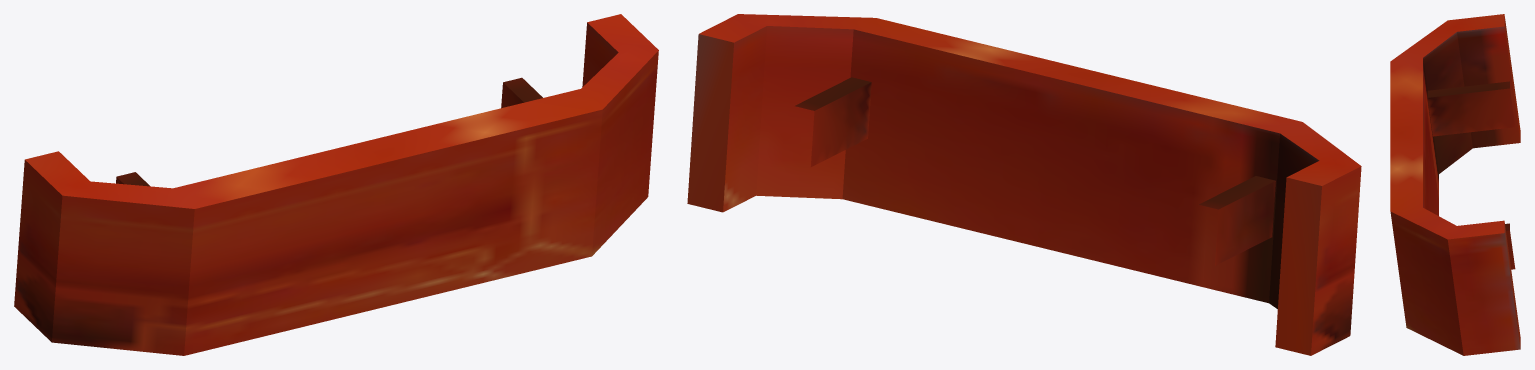
File: Truck 4 Spoiler.glb
The picture shows the model from 3 angles, left to right: view 1: azimuth 30°, elevation 25°; view 2: azimuth 150°, elevation 25°; view 3: azimuth 270°, elevation 25°; orthographic projection. The views are drawn at different scales.
Visible parts, largest first — view 1: spoiler; view 2: spoiler; view 3: spoiler.
Boxes of the visible parts, box(x1,y1,x2,y2) form: spoiler: box(14, 14, 658, 355); spoiler: box(687, 14, 1361, 355); spoiler: box(1390, 14, 1520, 355).
Size of the model in its own units: 1.48 by 0.408 by 0.3719.
1 material, 1 textured.
